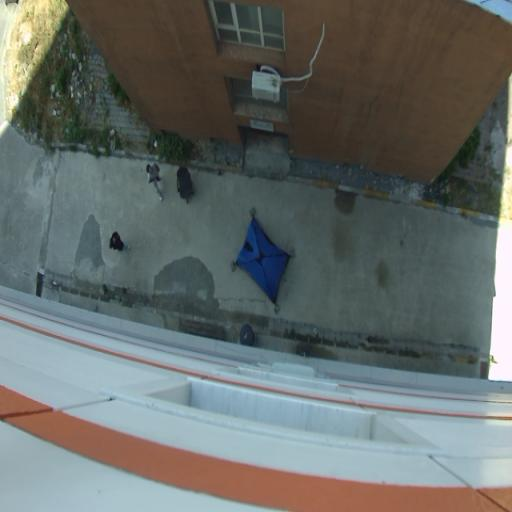tent: (228, 202, 300, 317)
